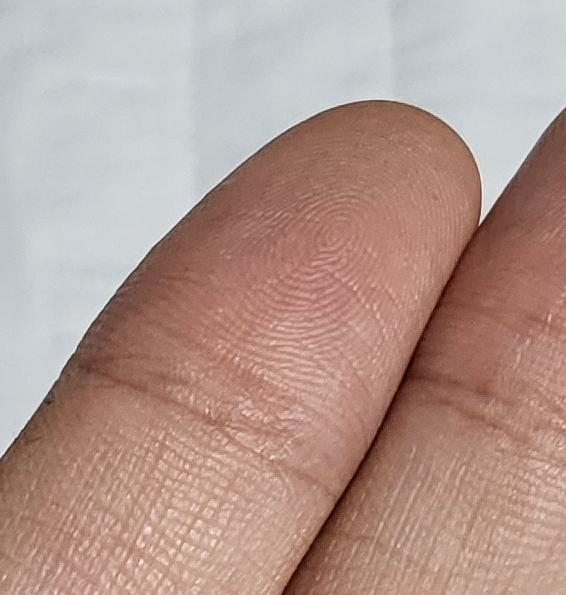Fingerprints: (71, 98, 485, 485)
